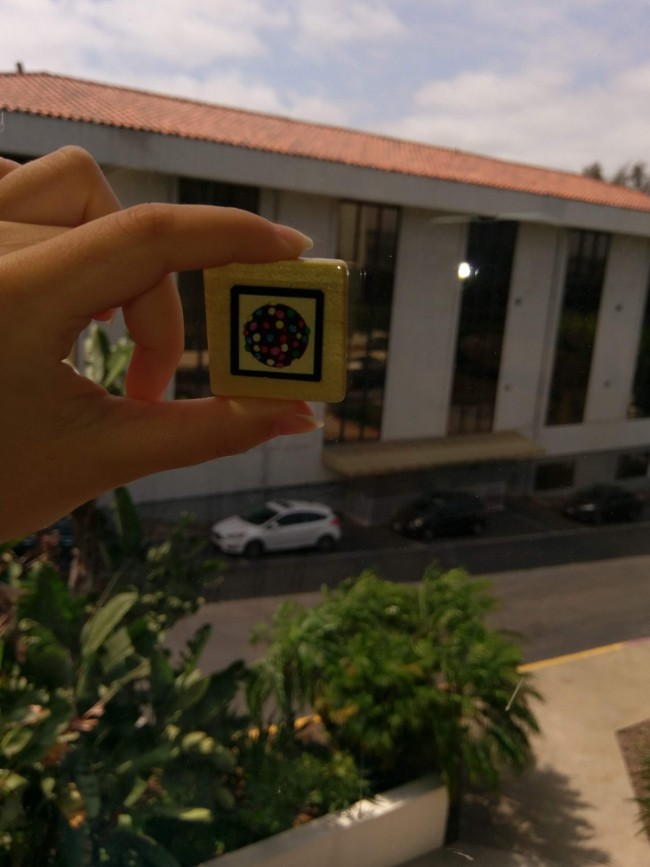cookie: (212, 278, 334, 390)
